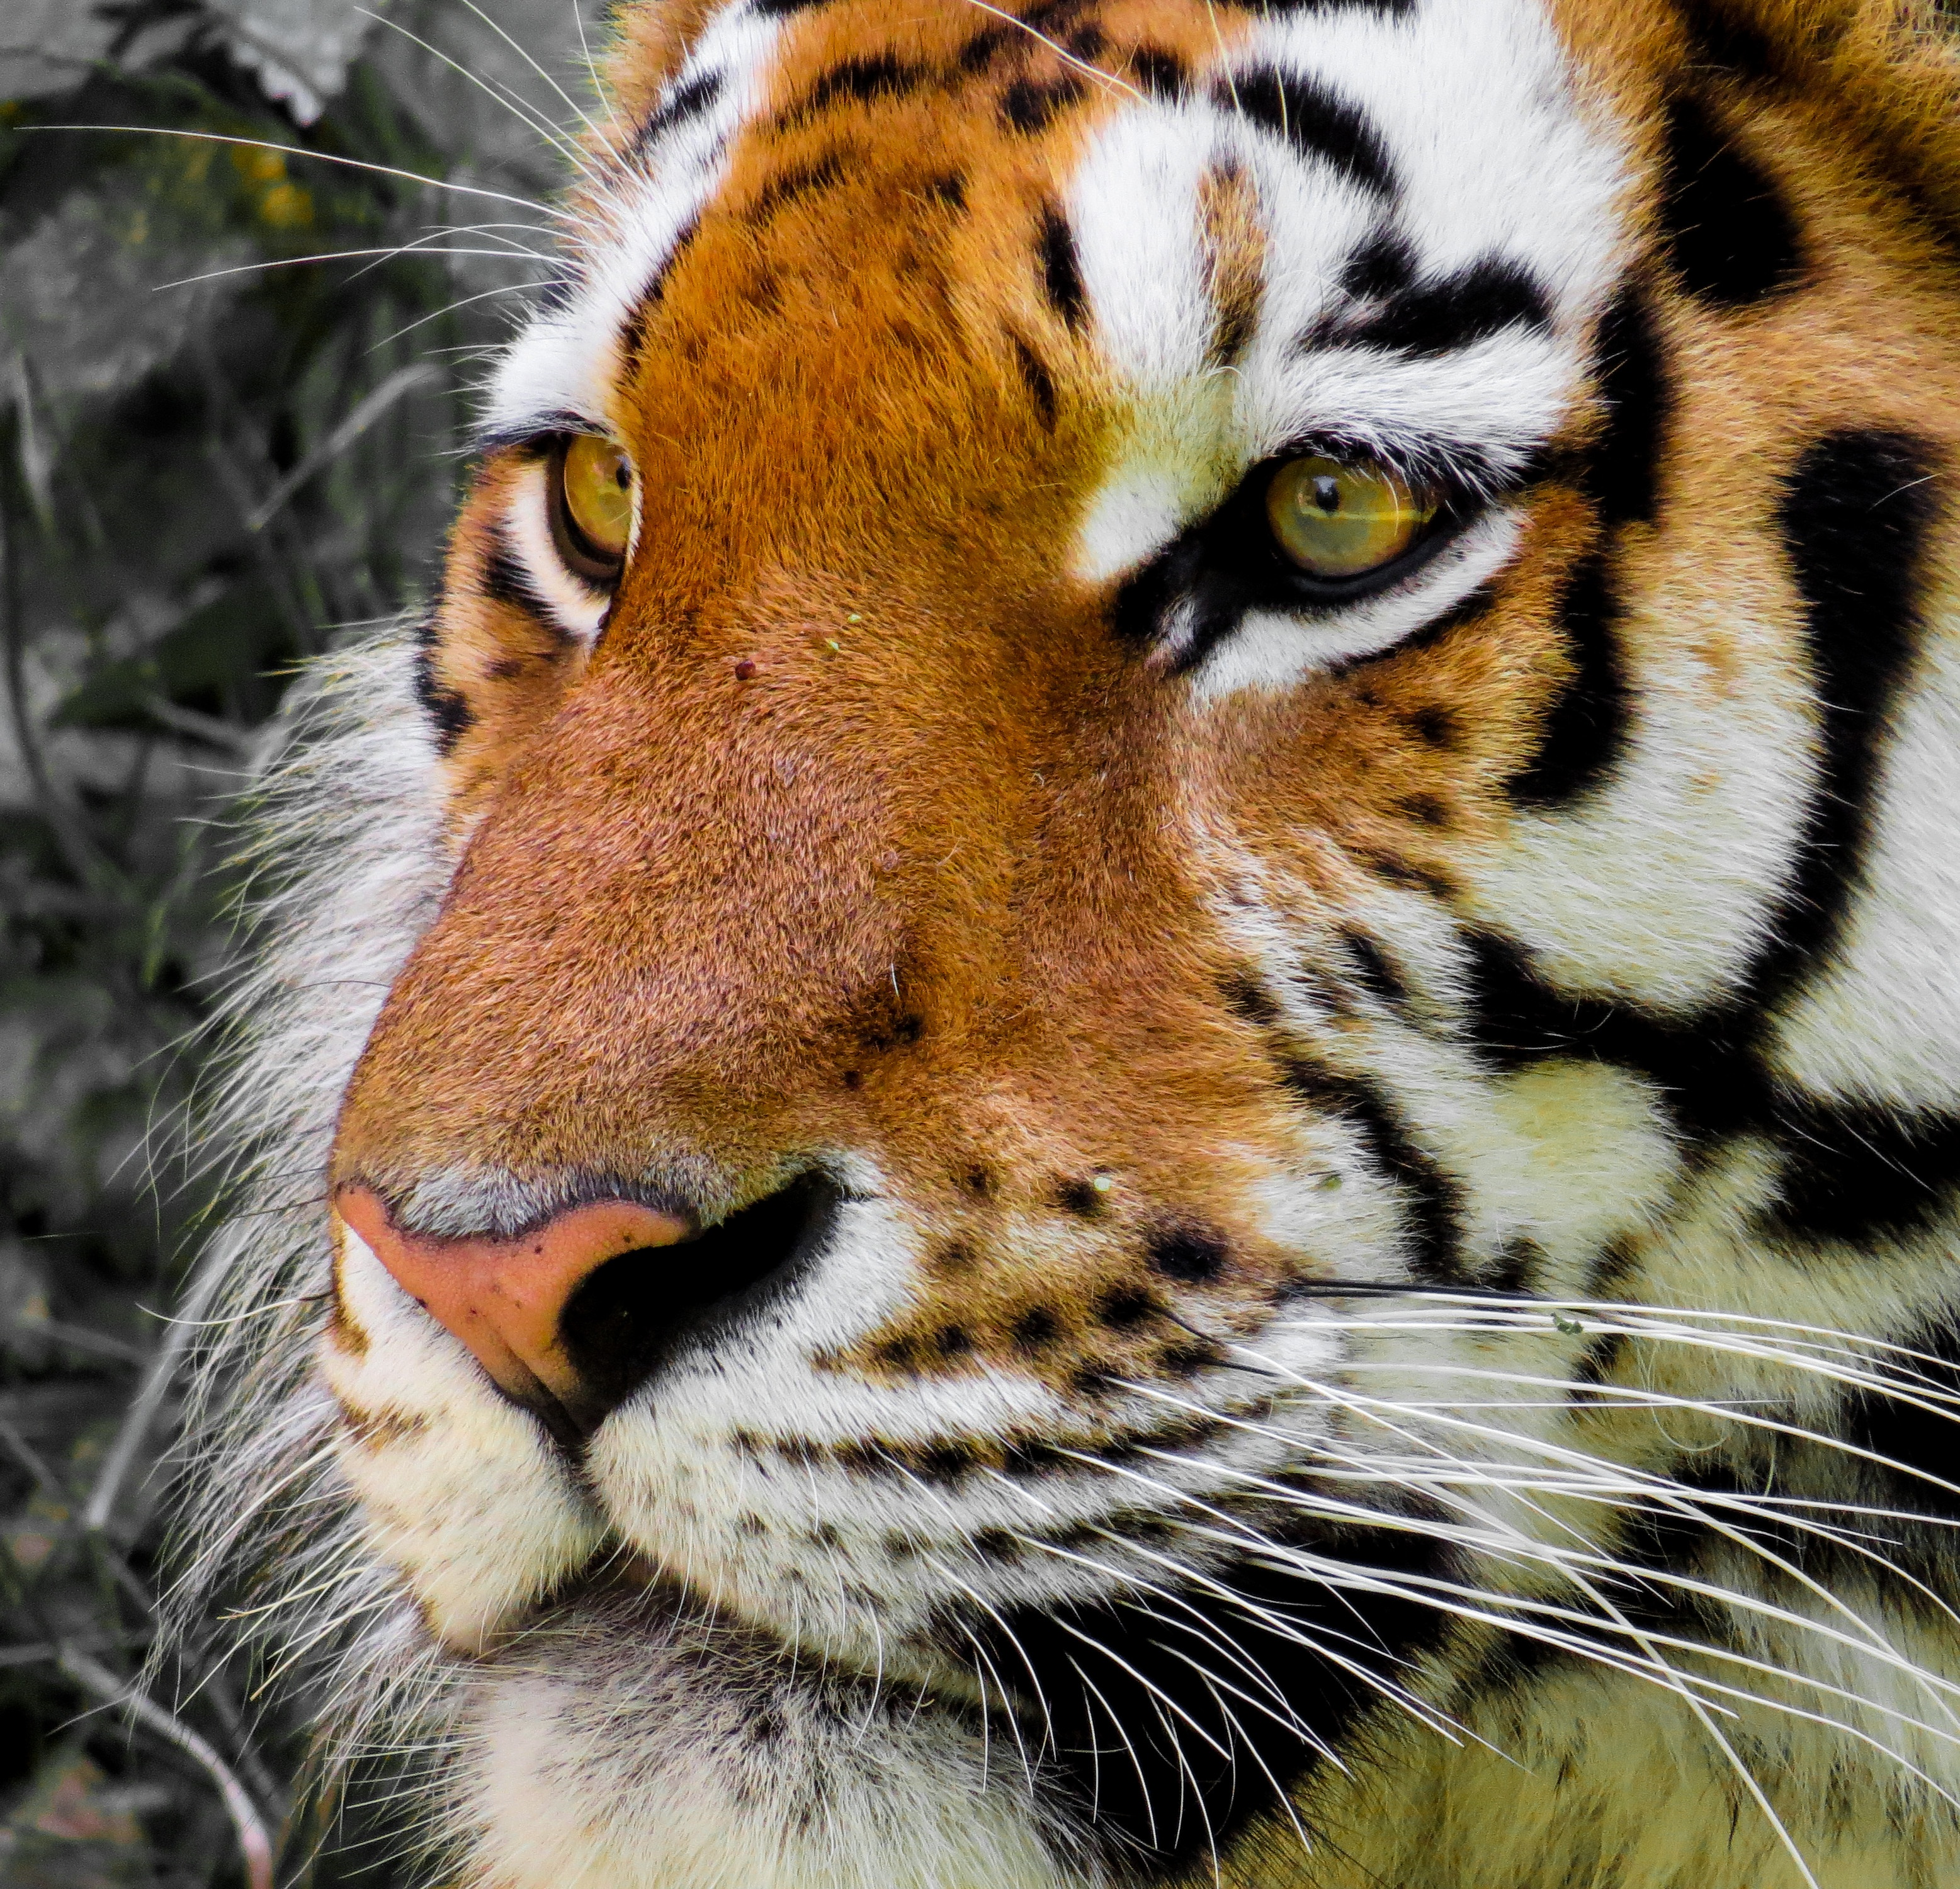tiger: (233, 51, 1937, 1847)
